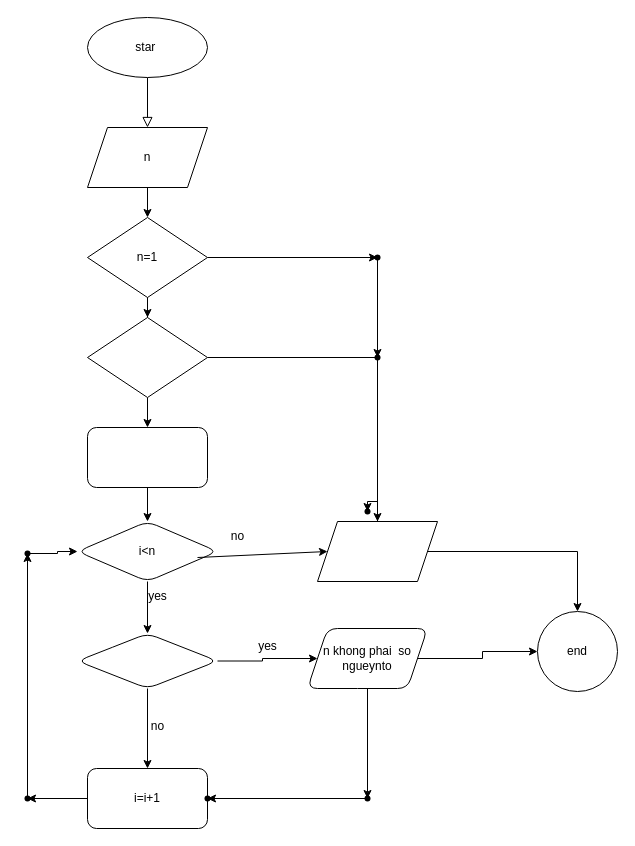
Some shapes in this 635 by 846 pixel diagram are drawn without their labels. Here are the shapes that lost their labels. From the top down, the centre of each, then its label:
At pixel 147 357: "n<4".
At pixel 147 457: "i=1".
At pixel 377 551: "n la so nguyen to".
At pixel 147 660: "n%i==0".
